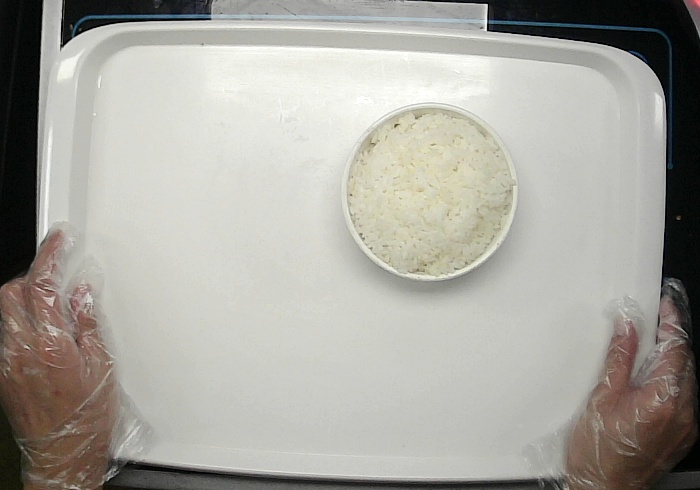HZYJPL-Fan_Wan: (340, 99, 521, 281)
